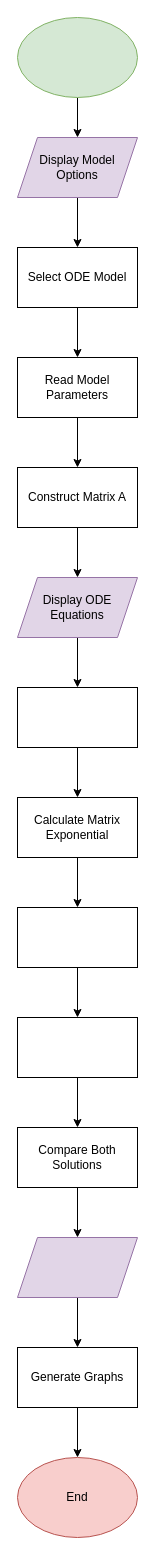
Image size: 155x1555. Some labels were removed from this diagram. Here are the shapes that lost their labels. From the top down, the centre of each, then its label:
At [77,57]: "Start".
At [77,717]: "Calculate Eigenvalues".
At [77,937]: "Solve Exact Solution".
At [77,1047]: "Solve Numerical Solution".
At [77,1267]: "Display Results".
